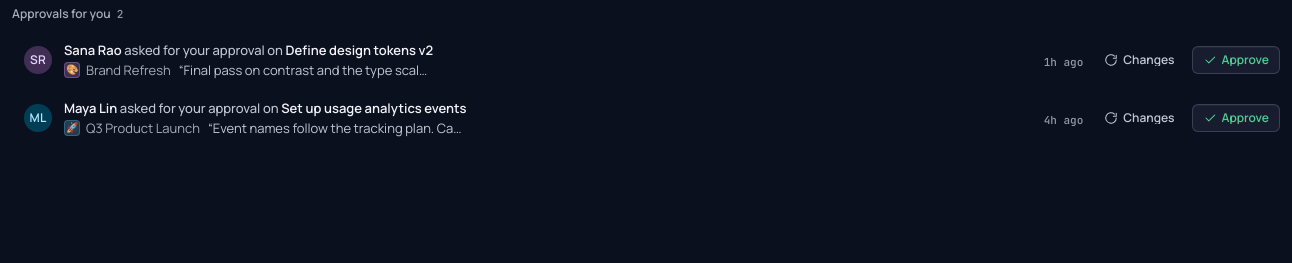
Test: ApprovalsInboxGroup › Escape puts the comment away (and keeps the draft); the buttons work by mouse too
Click the button with aria-label "Request changes on “Set up usage analytics events”" at (1139, 118), box x1=1093 y1=104 x2=1186 y2=132
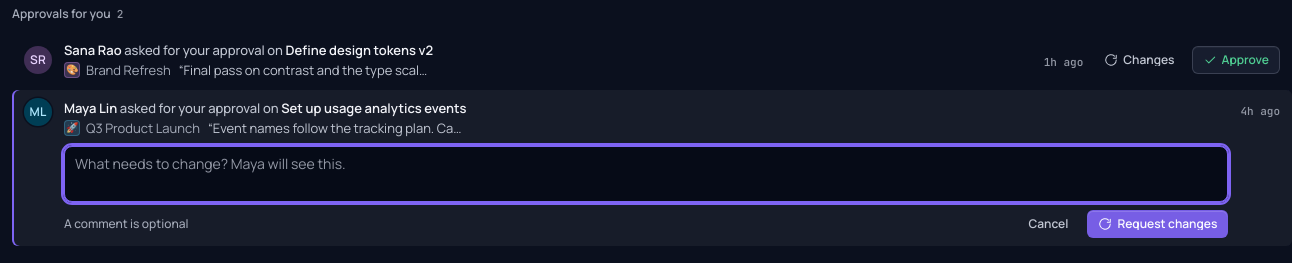
Type "Half-written" into the text box at (646, 174), box x1=64 y1=146 x2=1228 y2=202
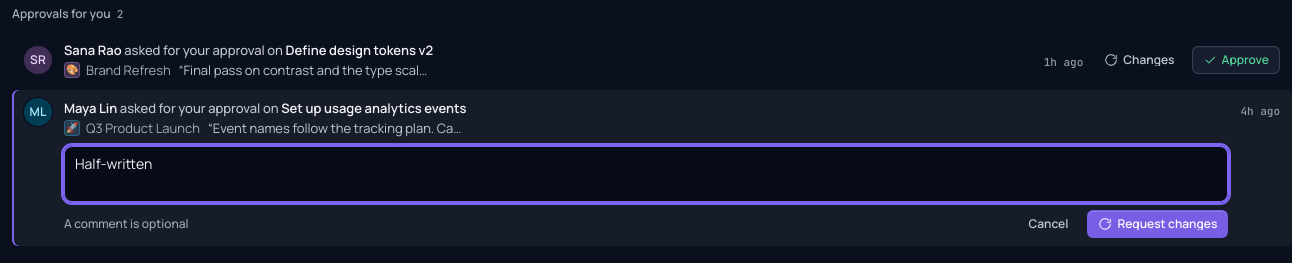
Press Escape in the text box, box x1=64 y1=146 x2=1228 y2=202
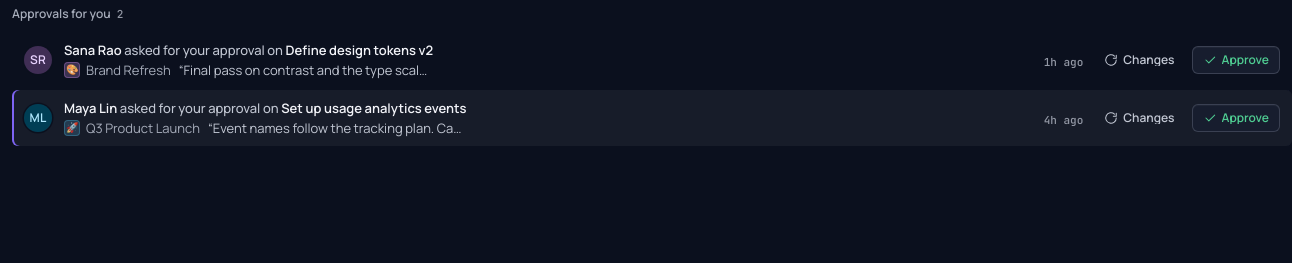
Click the button with aria-label "Request changes on" at (1139, 118), box x1=1093 y1=104 x2=1186 y2=132
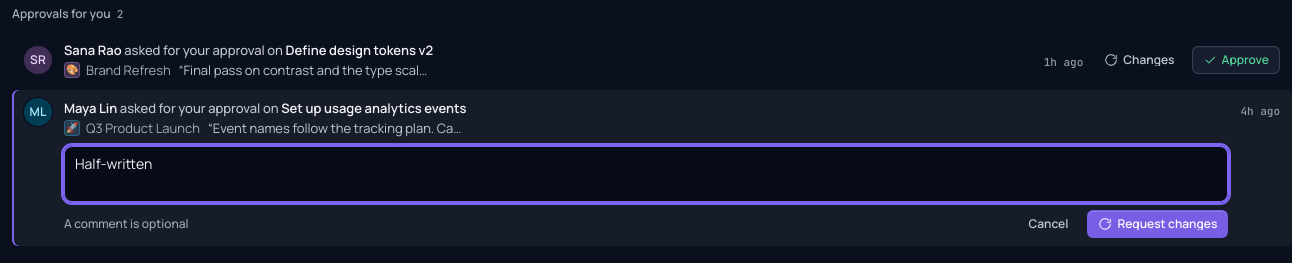
Expected: the text box holds "Half-written", x1=64 y1=146 x2=1228 y2=202
Click the button "Cancel" at (1048, 224), box x1=1018 y1=210 x2=1079 y2=238
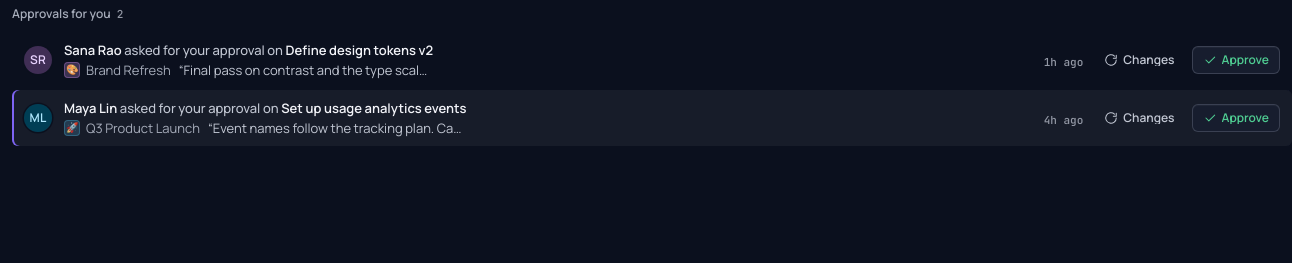
Click the button with aria-label "Approve “Set up usage analytics events”" at (1236, 118), box x1=1192 y1=104 x2=1280 y2=132
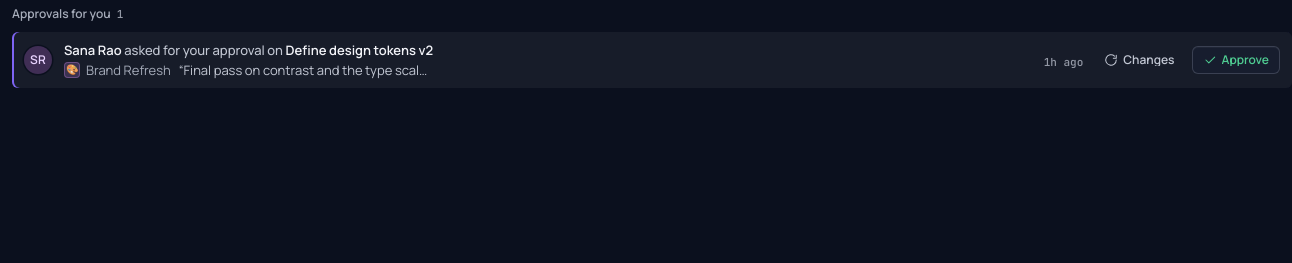
Expected: the number of list items is 1, x1=12 y1=32 x2=1291 y2=88
